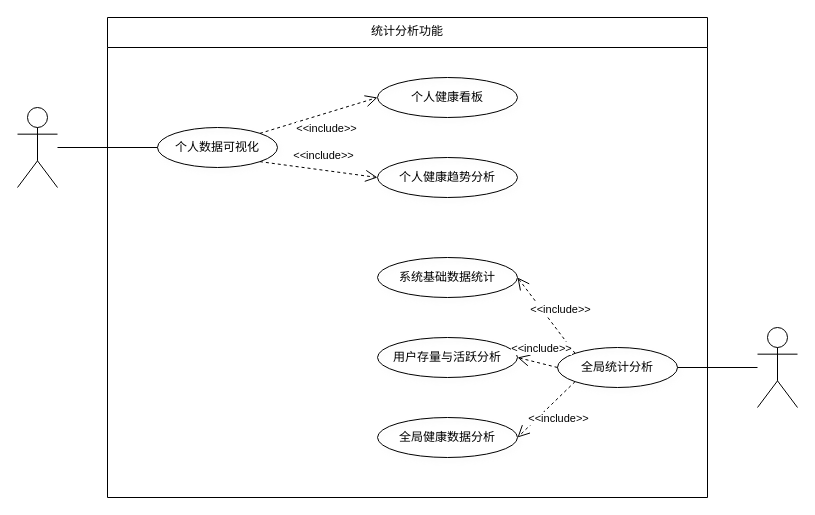
The diagram is 815 pixels wide and 515 high, and some of its shapes have lost their labels. The centre of each missing label's shape, as x and y in pixels:
"用户" belongs at pixel 37 147.
"管理员" belongs at pixel 777 367.
